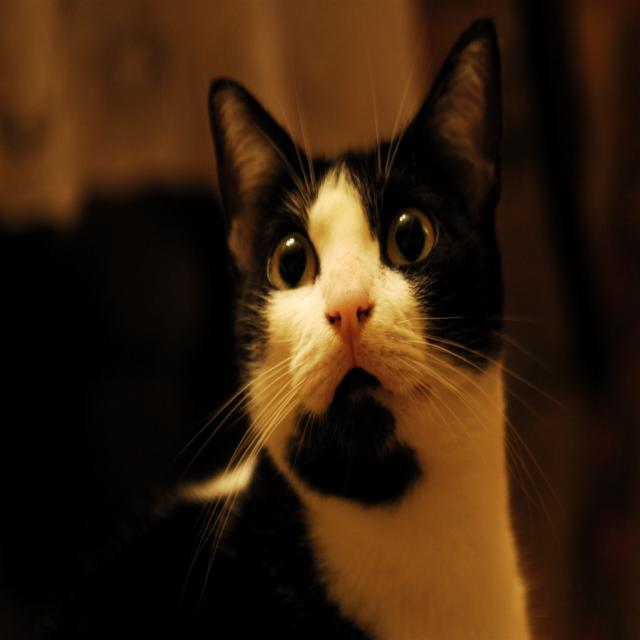Cat: (156, 22, 562, 638)
